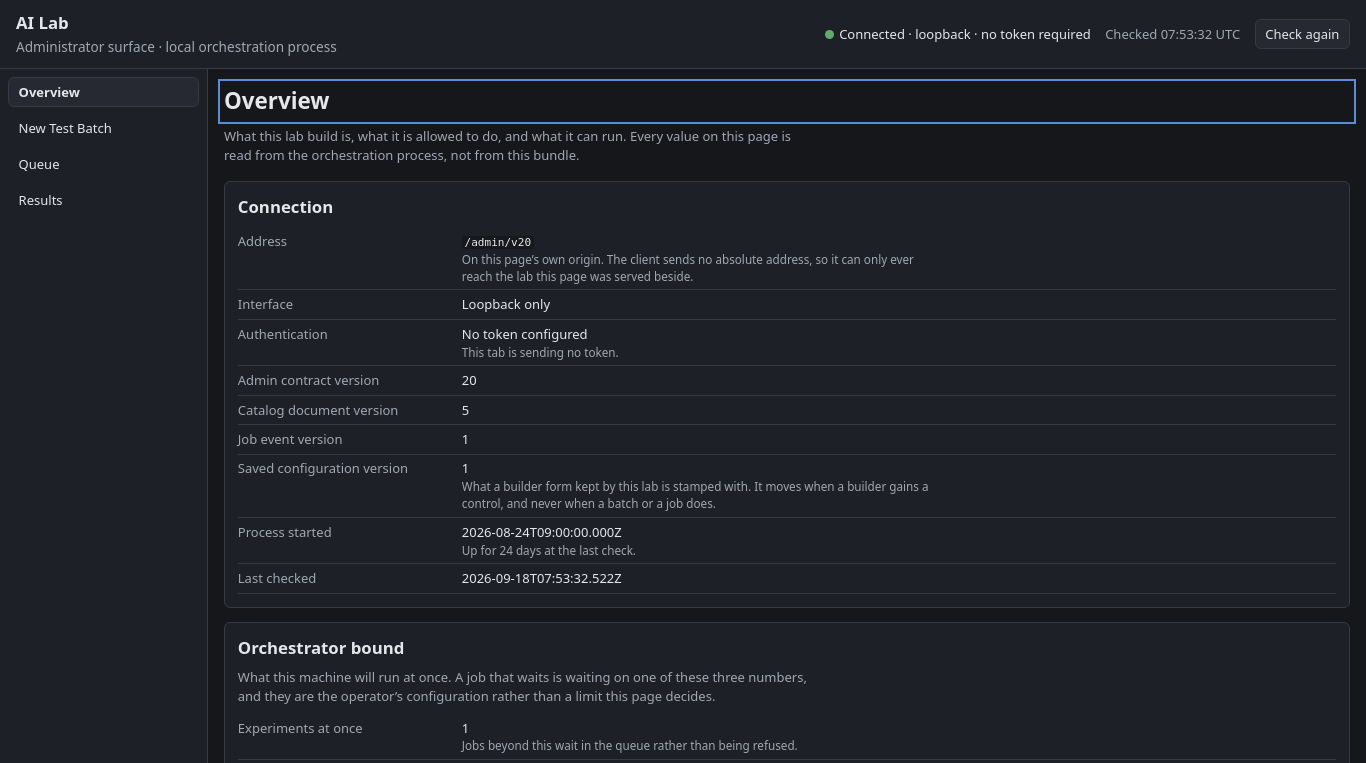
Scenario: opening an Adaptive Counter run › refuses an experiment ID the contract does not accept, without asking the network
Check: the heading "Overview" is shown, box [224, 85, 330, 116]
Click the button "Results" at (104, 200), box [8, 185, 199, 216]
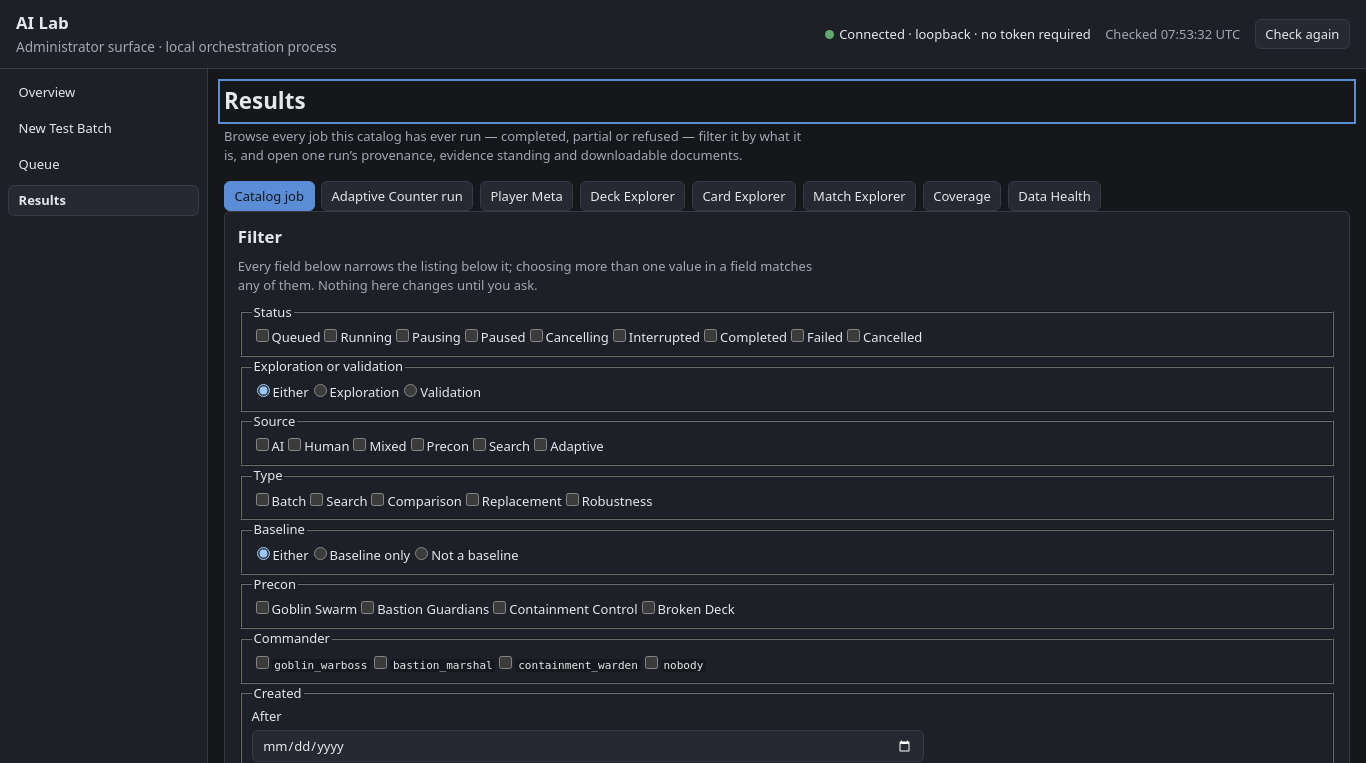
Check: the heading "Results" is shown, box [224, 85, 306, 116]
Click the button "Adaptive Counter run" at (397, 196), box [321, 181, 473, 211]
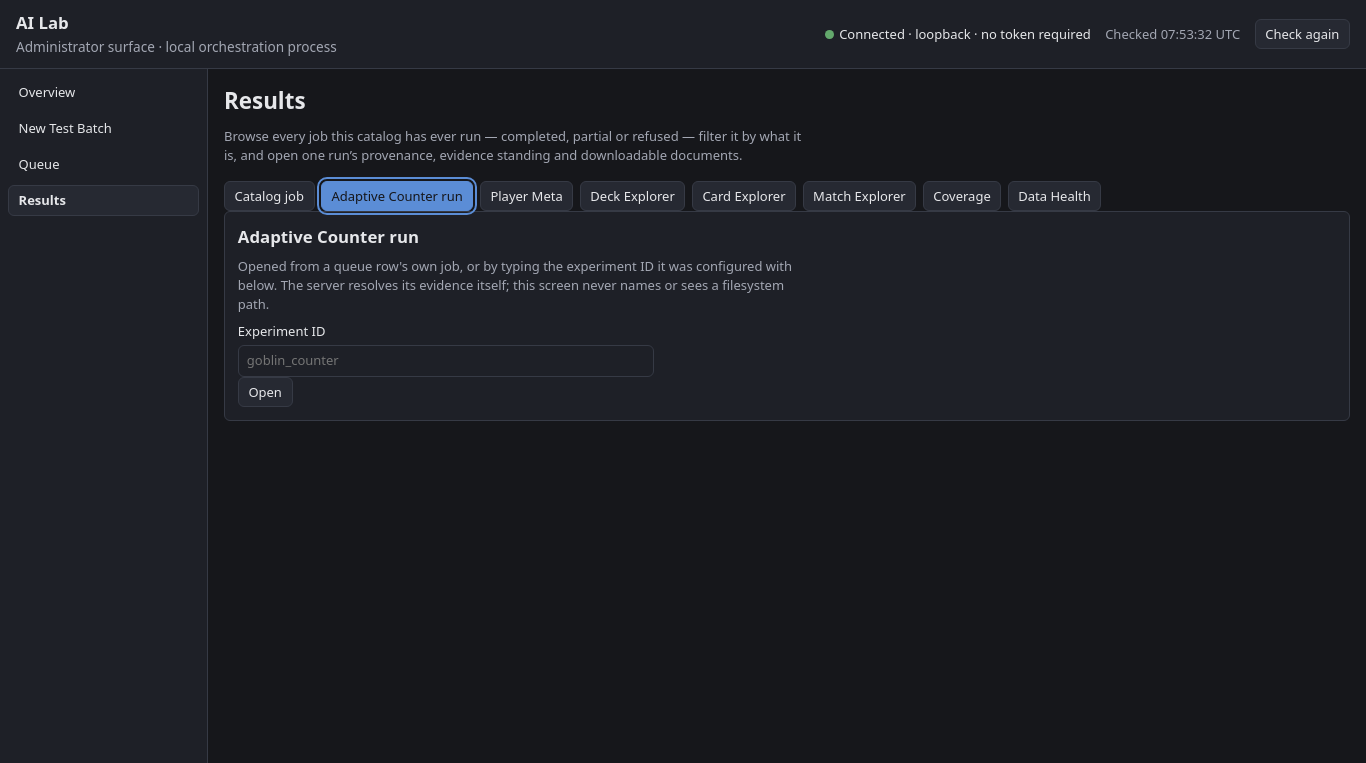
Type "NOT VALID" into the field labelled "Experiment ID" at (446, 361), box [238, 345, 654, 377]
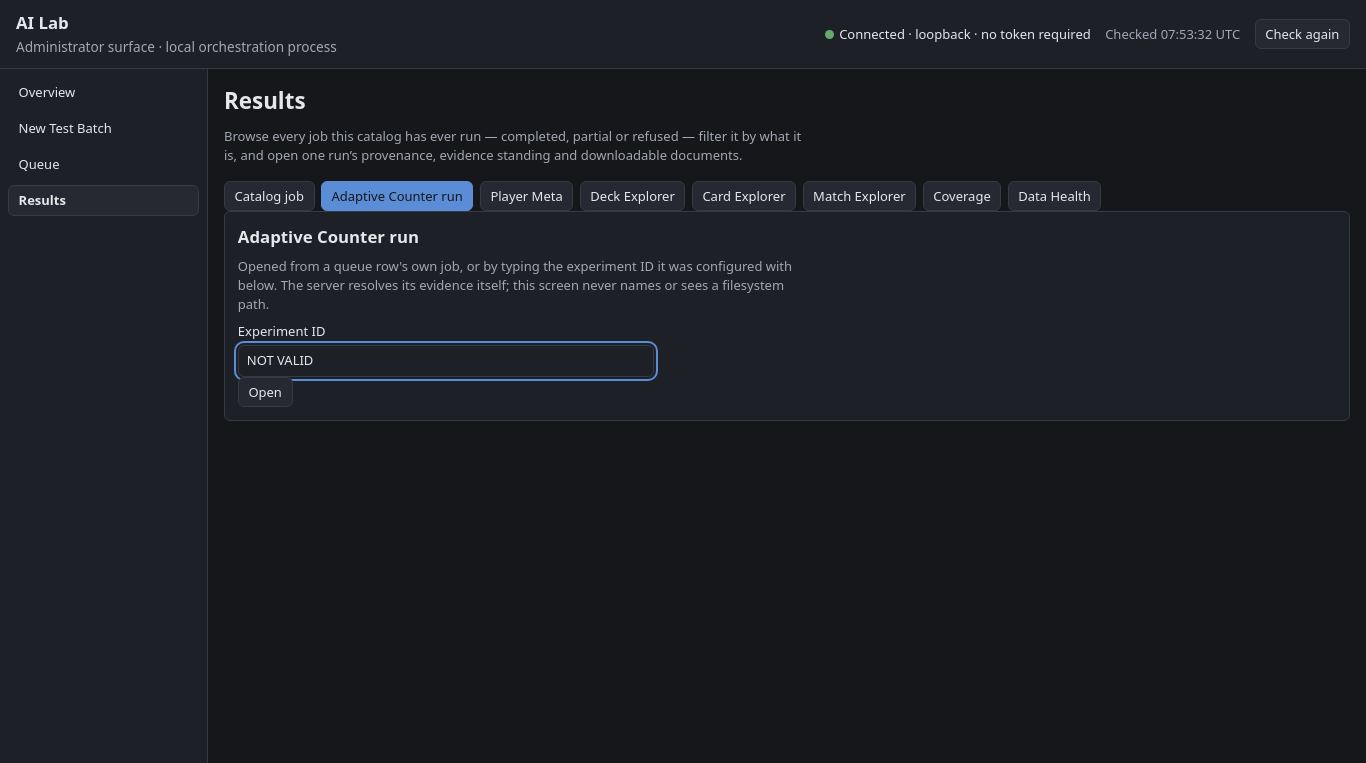
Click the button "Open" at (265, 392), box [238, 377, 292, 407]
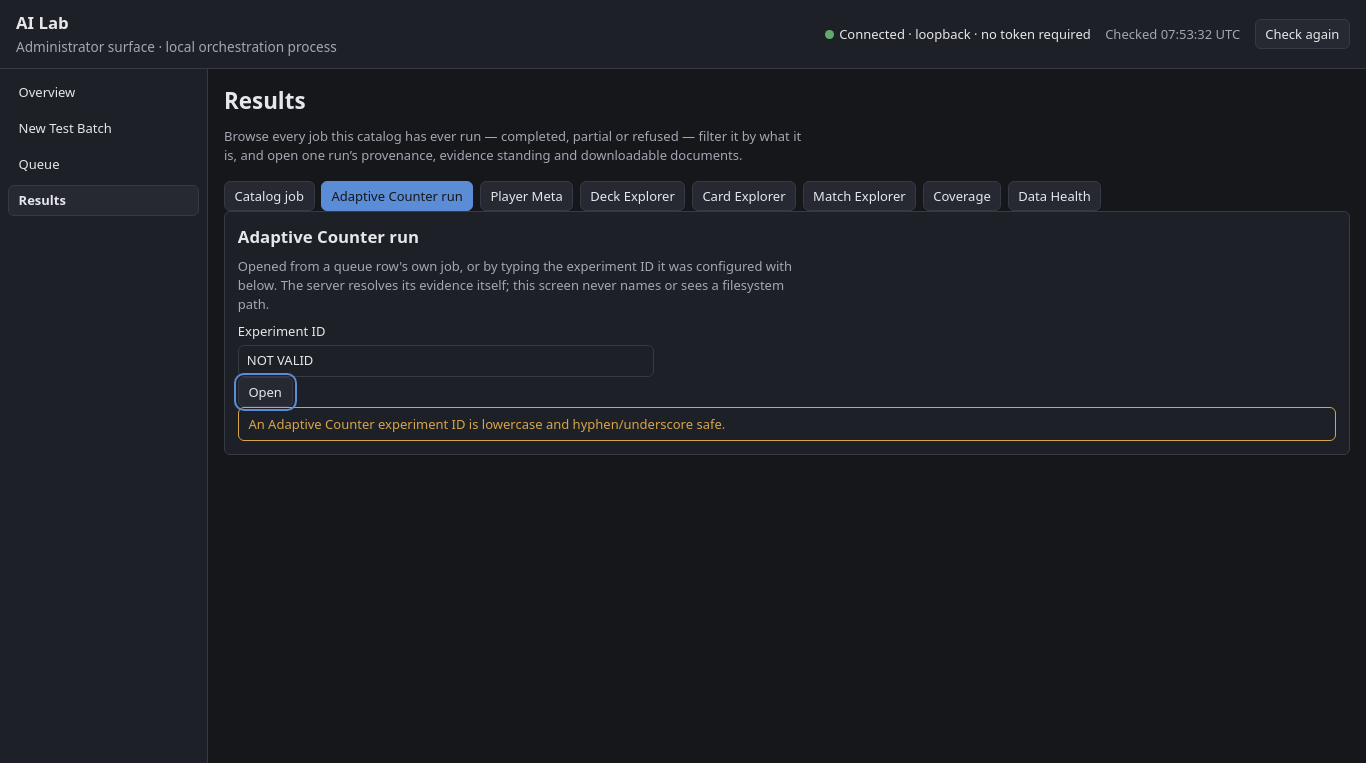
Check: the message shows "lowercase", box [248, 415, 725, 433]
